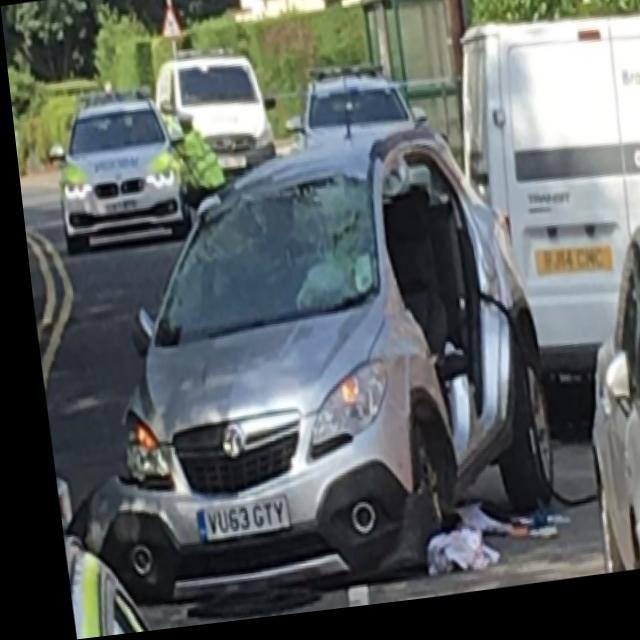license_plate: (185, 500, 286, 551), (525, 248, 600, 286)
